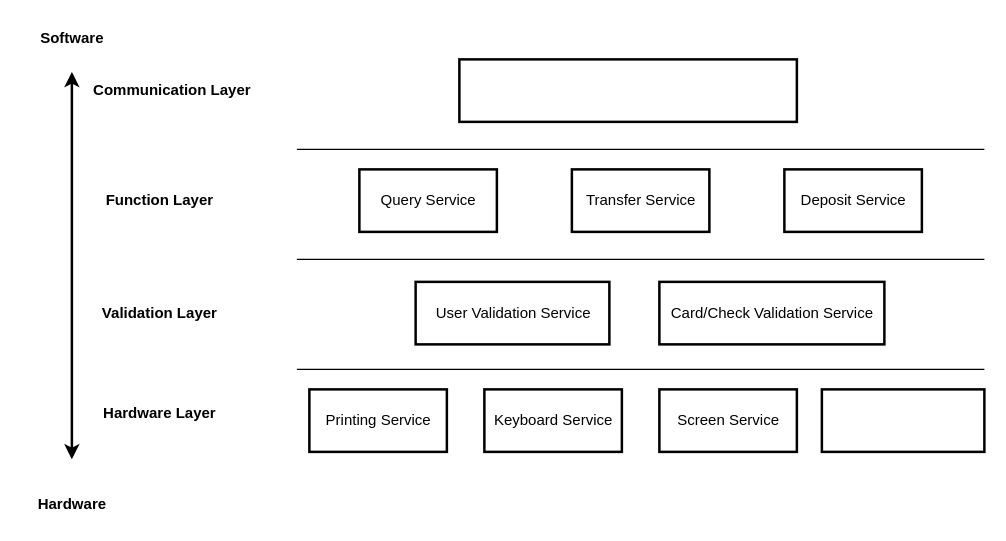
Image size: 1006x541. Some labels were removed from this diagram. Each missing label, with the box of its shape:
Card Reader Service: (820, 388, 985, 452)
Network Service(communicate with bank): (458, 58, 798, 122)
